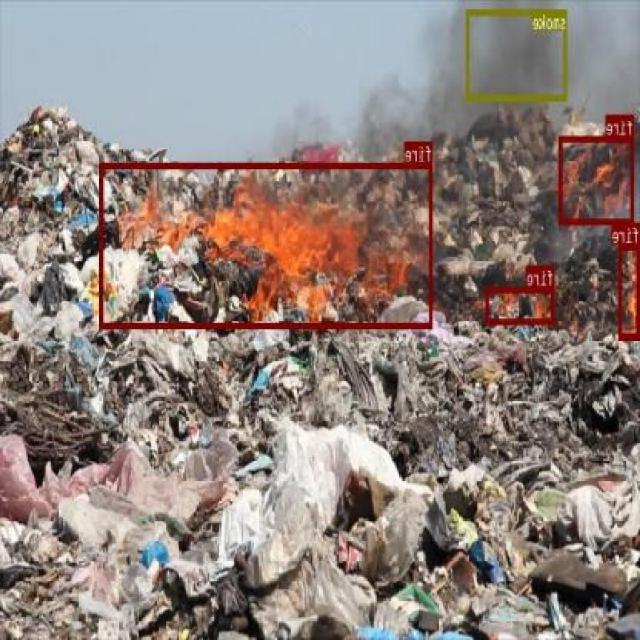Fire: (100, 161, 433, 327), (559, 134, 635, 223), (486, 285, 556, 324), (618, 242, 640, 338)
Smoke: (466, 8, 568, 98)
